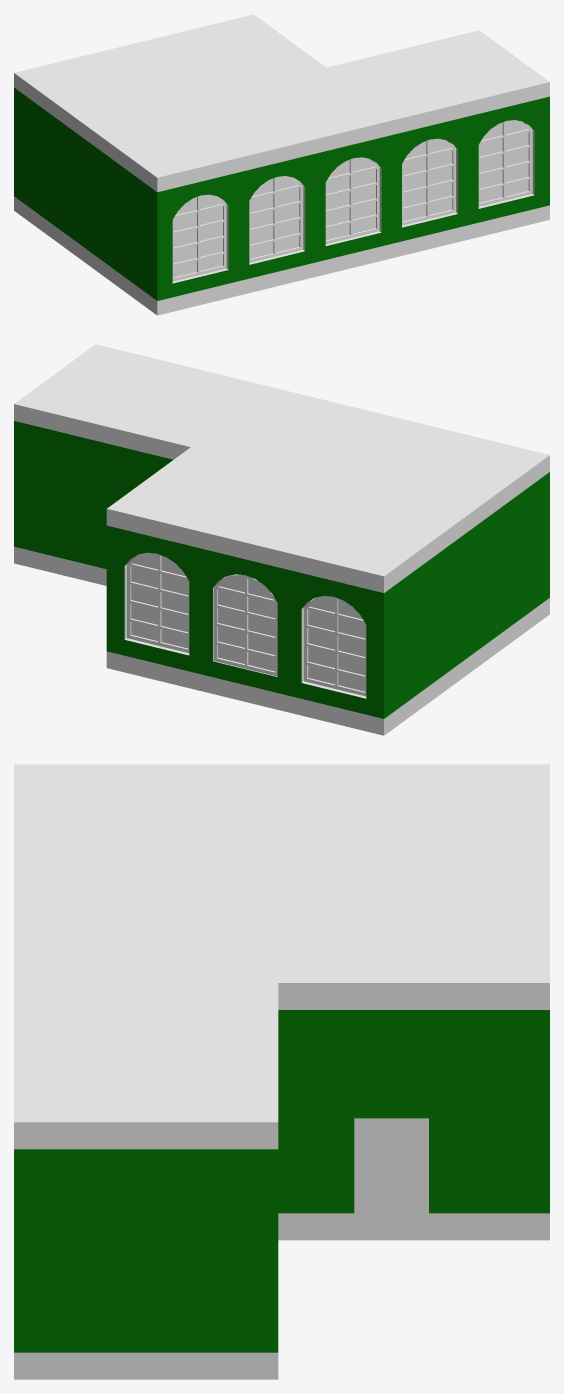
File: second floor 3-29.fbx
3 views of the same model, one above another, from view 1: azimuth 30°, elevation 25°; view 2: azimuth 150°, elevation 25°; view 3: azimuth 270°, elevation 25° (orthographic). The views are drawn at different scales.
Parts seen in each view (by area): view 1: roof_2, outer walls_2, window glass_2, floor_2, window metal_2, window frame_2; view 2: roof_2, outer walls_2, window glass_2, floor_2, window metal_2, window frame_2; view 3: roof_2, outer walls_2, floor_2, interior door_2.
Part boxes in pixels (<box>): roof_2: <box>14,14,549,192</box>; outer walls_2: <box>14,87,549,300</box>; window glass_2: <box>173,121,528,277</box>; floor_2: <box>14,178,549,315</box>; window metal_2: <box>172,120,532,281</box>; window frame_2: <box>172,123,534,283</box>; roof_2: <box>14,344,549,592</box>; outer walls_2: <box>14,421,549,718</box>; window glass_2: <box>131,554,365,691</box>; floor_2: <box>14,546,549,735</box>; window metal_2: <box>127,552,366,696</box>; window frame_2: <box>124,556,366,698</box>; roof_2: <box>14,764,549,1149</box>; outer walls_2: <box>14,1010,549,1352</box>; floor_2: <box>14,1213,549,1379</box>; interior door_2: <box>354,1118,428,1213</box>.
Bounding box in the file's own units: 24.38 × 8.18 × 15.42.
